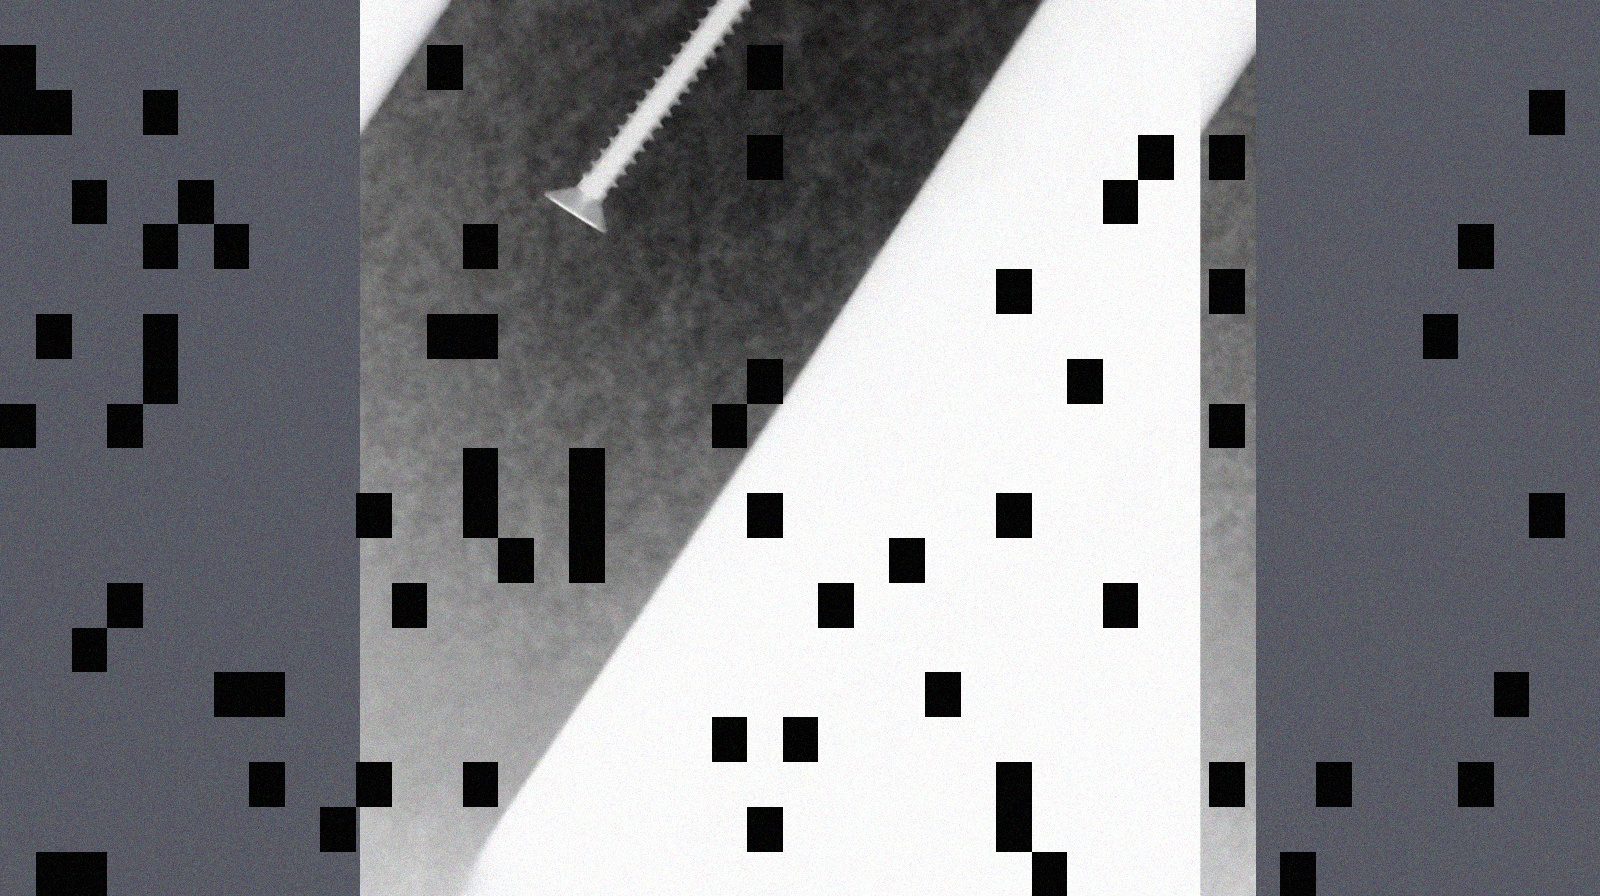S002: (526, 0, 808, 246)
